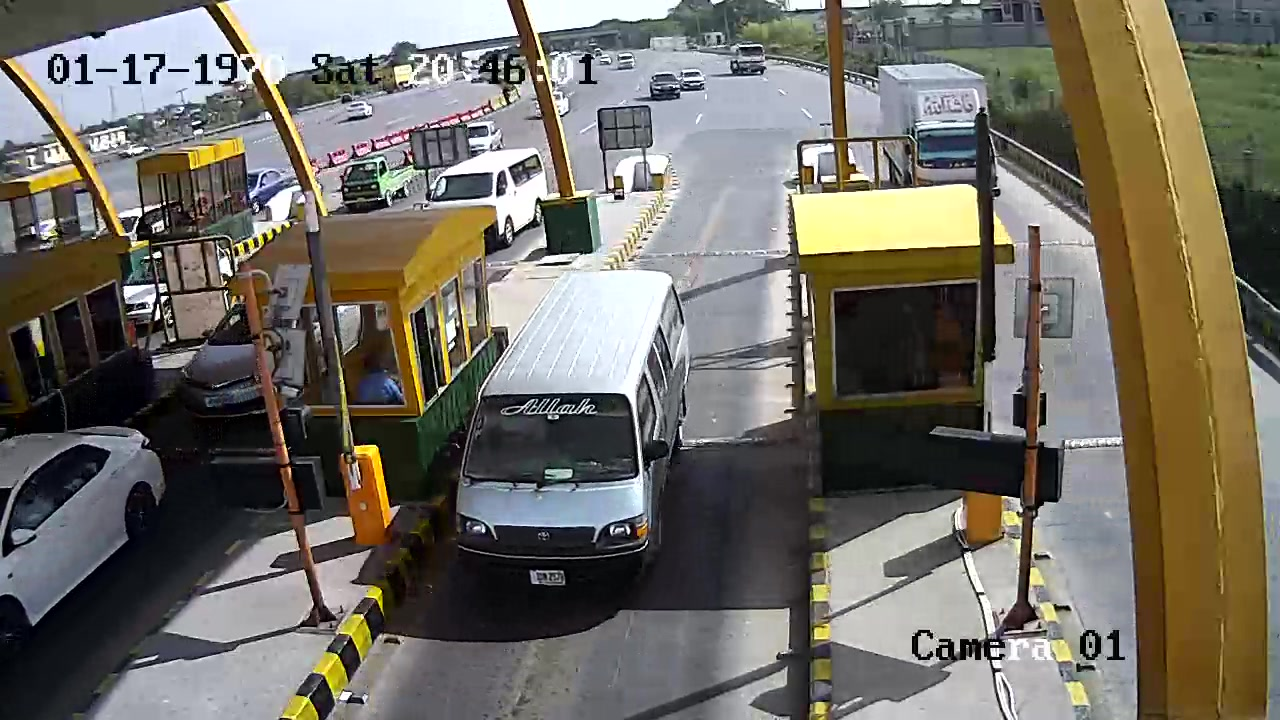F3: (449, 264, 698, 591)
